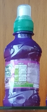blueberries: (4, 4, 40, 106)
